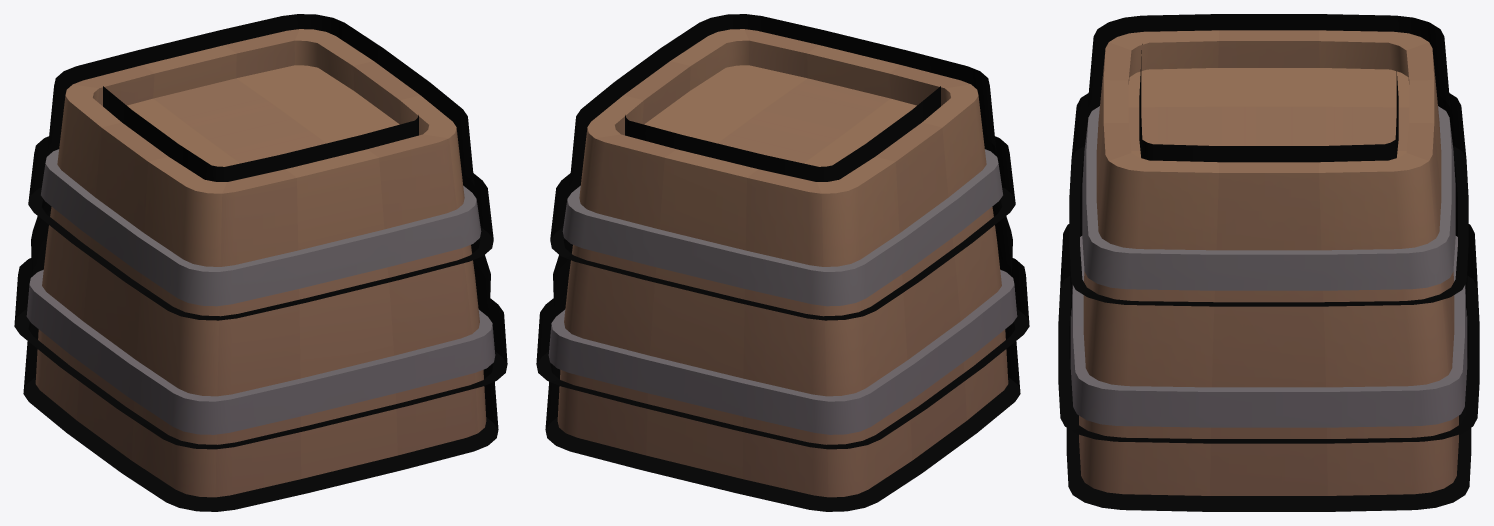
The model's file is archerTower_lvl2_backFaceMesh.fbx.
3 views of the same model, side by side, from view 1: azimuth 30°, elevation 25°; view 2: azimuth 150°, elevation 25°; view 3: azimuth 270°, elevation 25° (orthographic). The views are drawn at different scales.
Parts seen in each view (by area): view 1: archerTower_lvl2, archerTower_lvl2_backFace; view 2: archerTower_lvl2, archerTower_lvl2_backFace; view 3: archerTower_lvl2, archerTower_lvl2_backFace.
Part boxes in pixels (x1,y1,x2,y2): archerTower_lvl2: [26, 29, 495, 497]; archerTower_lvl2_backFace: [14, 14, 507, 511]; archerTower_lvl2: [548, 29, 1017, 497]; archerTower_lvl2_backFace: [536, 14, 1029, 511]; archerTower_lvl2: [1070, 30, 1467, 495]; archerTower_lvl2_backFace: [1058, 14, 1479, 511].
Bounding box in the file's own units: 164 × 142 × 161.
